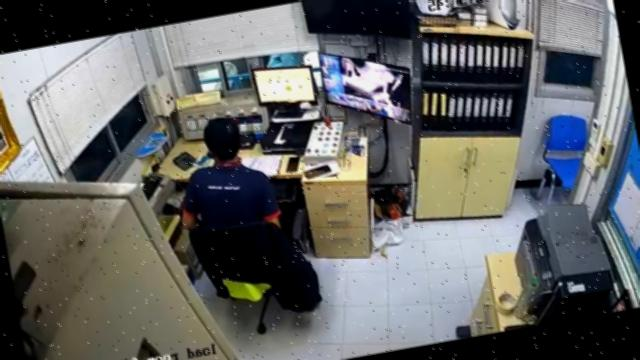Head: (202, 118, 241, 161)
People: (182, 117, 282, 228)
Phone: (303, 165, 332, 178), (286, 157, 301, 172)
